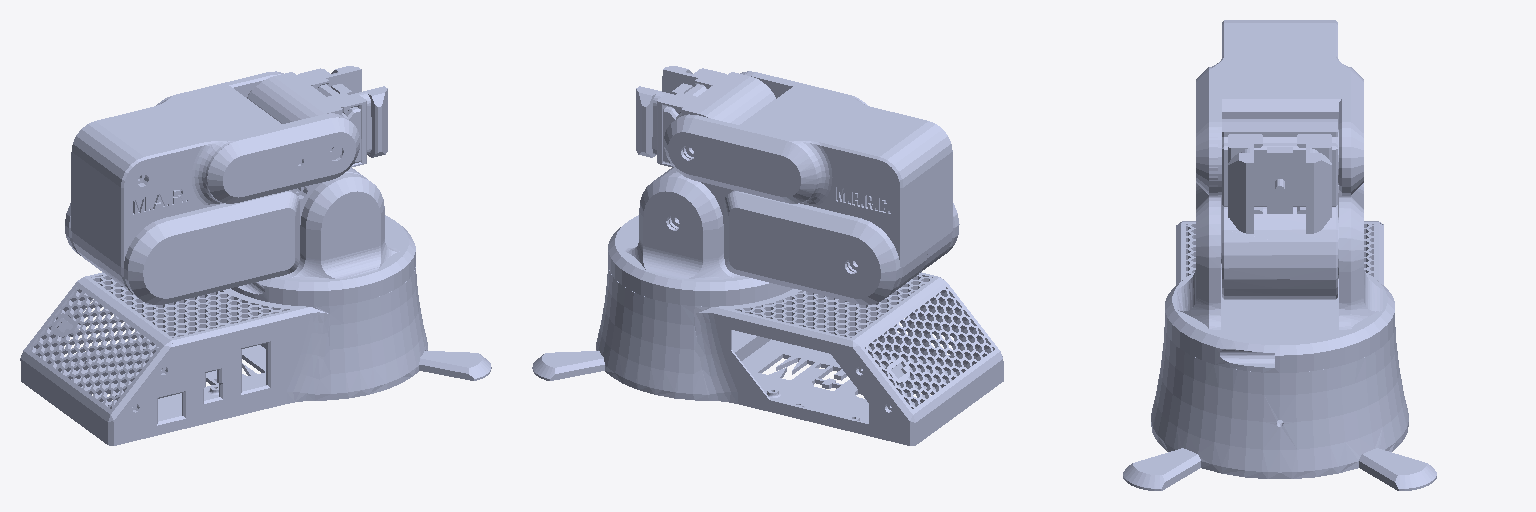
The robot description file, URDF, robot "marc_urdf":
<?xml version="1.0" encoding="utf-8"?>
<!-- This URDF was automatically created by SolidWorks to URDF Exporter! Originally created by [author] ([email redacted]) 
     Commit Version: 1.6.0-4-g7f85cfe  Build Version: 1.6.7995.38578
     For more information, please see http://wiki.ros.org/sw_urdf_exporter -->
<robot
  name="marc_urdf">

    <link name="world"/>

  <joint name="world_joint" type="fixed">
    <parent link="world"/>
    <child link="base_link"/>
    <origin xyz="0 0 0" rpy="0 0 0"/>
  </joint>
  
  <link
    name="base_link">
    <inertial>
      <origin
        xyz="-0.019326 -0.0015141 0.022149"
        rpy="0 0 0" />
      <mass
        value="0.13112" />
      <inertia
        ixx="0.00013465"
        ixy="-7.8684E-06"
        ixz="-7.1281E-09"
        iyy="0.00021462"
        iyz="2.4514E-06"
        izz="0.0003101" />
    </inertial>
    <visual>
      <origin
        xyz="0 0 0"
        rpy="0 0 0" />
      <geometry>
        <mesh
          filename="package://marc_urdf/meshes/base_link.STL" />
      </geometry>
      <material
        name="">
        <color
          rgba="0.79216 0.81961 0.93333 1" />
      </material>
    </visual>
    <collision>
      <origin
        xyz="0 0 0"
        rpy="0 0 0" />
      <geometry>
        <mesh
          filename="package://marc_urdf/meshes/base_link.STL" />
      </geometry>
    </collision>
  </link>
  <link
    name="shoulder_link">
    <inertial>
      <origin
        xyz="-0.00061872 -0.0022185 0.013845"
        rpy="0 0 0" />
      <mass
        value="0.055252" />
      <inertia
        ixx="1.5922E-05"
        ixy="1.9743E-08"
        ixz="-8.4955E-08"
        iyy="3.3192E-05"
        iyz="7.5752E-08"
        izz="3.0288E-05" />
    </inertial>
    <visual>
      <origin
        xyz="0 0 0"
        rpy="0 0 0" />
      <geometry>
        <mesh
          filename="package://marc_urdf/meshes/shoulder_link.STL" />
      </geometry>
      <material
        name="">
        <color
          rgba="0.79216 0.81961 0.93333 1" />
      </material>
    </visual>
    <collision>
      <origin
        xyz="0 0 0"
        rpy="0 0 0" />
      <geometry>
        <mesh
          filename="package://marc_urdf/meshes/shoulder_link.STL" />
      </geometry>
    </collision>
  </link>
  <joint
    name="shoulder_joint"
    type="revolute">
    <origin
      xyz="0 0 0.043"
      rpy="0 0 0" />
    <parent
      link="base_link" />
    <child
      link="shoulder_link" />
    <axis
      xyz="0 0 -1" />
    <limit
      lower="-1.57"
      upper="1.57"
      effort="1.5"
      velocity="1.5" />
  </joint>
  <link
    name="upper_arm_link">
    <inertial>
      <origin
        xyz="-0.044247 -0.034464 -0.00034511"
        rpy="0 0 0" />
      <mass
        value="0.074807" />
      <inertia
        ixx="1.773E-05"
        ixy="-2.1148E-06"
        ixz="-5.6426E-07"
        iyy="8.8688E-05"
        iyz="1.1069E-08"
        izz="8.1791E-05" />
    </inertial>
    <visual>
      <origin
        xyz="0 0 0"
        rpy="0 0 0" />
      <geometry>
        <mesh
          filename="package://marc_urdf/meshes/upper_arm_link.STL" />
      </geometry>
      <material
        name="">
        <color
          rgba="0.79216 0.81961 0.93333 1" />
      </material>
    </visual>
    <collision>
      <origin
        xyz="0 0 0"
        rpy="0 0 0" />
      <geometry>
        <mesh
          filename="package://marc_urdf/meshes/upper_arm_link.STL" />
      </geometry>
    </collision>
  </link>
  <joint
    name="upper_arm_joint"
    type="revolute">
    <origin
      xyz="0 0.029499 0.0325"
      rpy="0 0 0" />
    <parent
      link="shoulder_link" />
    <child
      link="upper_arm_link" />
    <axis
      xyz="0 -1 0" />
    <limit
      lower="-3.14"
      upper="0"
      effort="1.5"
      velocity="1.5" />
  </joint>
  <link
    name="elbow_link">
    <inertial>
      <origin
        xyz="0.025893 -0.031113 0.026699"
        rpy="0 0 0" />
      <mass
        value="0.071354" />
      <inertia
        ixx="3.0153E-05"
        ixy="-1.2234E-06"
        ixz="-1.1982E-05"
        iyy="8.521E-05"
        iyz="-1.1176E-07"
        izz="6.3508E-05" />
    </inertial>
    <visual>
      <origin
        xyz="0 0 0"
        rpy="0 0 0" />
      <geometry>
        <mesh
          filename="package://marc_urdf/meshes/elbow_link.STL" />
      </geometry>
      <material
        name="">
        <color
          rgba="0.79216 0.81961 0.93333 1" />
      </material>
    </visual>
    <collision>
      <origin
        xyz="0 0 0"
        rpy="0 0 0" />
      <geometry>
        <mesh
          filename="package://marc_urdf/meshes/elbow_link.STL" />
      </geometry>
    </collision>
  </link>
  <joint
    name="elbow_joint"
    type="revolute">
    <origin
      xyz="-0.09 0 0"
      rpy="0 0 0" />
    <parent
      link="upper_arm_link" />
    <child
      link="elbow_link" />
    <axis
      xyz="0 -1 0" />
    <limit
      lower="0"
      upper="3.14"
      effort="10.5"
      velocity="1.5" />
  </joint>
  <link
    name="wrist_link">
    <inertial>
      <origin
        xyz="0.0031708 -0.028752 9.5281E-06"
        rpy="0 0 0" />
      <mass
        value="0.027875" />
      <inertia
        ixx="9.2319E-06"
        ixy="-4.769E-07"
        ixz="9.4703E-10"
        iyy="3.9611E-06"
        iyz="-1.3442E-09"
        izz="8.8951E-06" />
    </inertial>
    <visual>
      <origin
        xyz="0 0 0"
        rpy="0 0 0" />
      <geometry>
        <mesh
          filename="package://marc_urdf/meshes/wrist_link.STL" />
      </geometry>
      <material
        name="">
        <color
          rgba="0.79216 0.81961 0.93333 1" />
      </material>
    </visual>
    <collision>
      <origin
        xyz="0 0 0"
        rpy="0 0 0" />
      <geometry>
        <mesh
          filename="package://marc_urdf/meshes/wrist_link.STL" />
      </geometry>
    </collision>
  </link>
  <joint
    name="wrist_joint"
    type="revolute">
    <origin
      xyz="0.082703 0 0.0355"
      rpy="0 0 0" />
    <parent
      link="elbow_link" />
    <child
      link="wrist_link" />
    <axis
      xyz="0 1 0" />
    <limit
      lower="-1.57"
      upper="1.57"
      effort="10.5"
      velocity="1.5" />
  </joint>
  <link
    name="ee_link">
    <inertial>
      <origin
        xyz="-0.0057006 1.9829E-06 -0.00036295"
        rpy="0 0 0" />
      <mass
        value="0.010567" />
      <inertia
        ixx="9.4856E-07"
        ixy="2.218E-21"
        ixz="1.3268E-09"
        iyy="1.2637E-06"
        iyz="8.2325E-21"
        izz="4.7796E-07" />
    </inertial>
    <visual>
      <origin
        xyz="0 0 0"
        rpy="0 0 0" />
      <geometry>
        <mesh
          filename="package://marc_urdf/meshes/ee_link.STL" />
      </geometry>
      <material
        name="">
        <color
          rgba="0.79216 0.81961 0.93333 1" />
      </material>
    </visual>
    <collision>
      <origin
        xyz="0 0 0"
        rpy="0 0 0" />
      <geometry>
        <mesh
          filename="package://marc_urdf/meshes/ee_link.STL" />
      </geometry>
    </collision>
  </link>
  <joint
    name="ee_joint"
    type="fixed">
    <origin
      xyz="0.031 -0.0295 8.7404E-05"
      rpy="0 0 0" />
    <parent
      link="wrist_link" />
    <child
      link="ee_link" />
    <axis
      xyz="0 0 0" />
    <limit
      lower="0"
      upper="0"
      effort="0"
      velocity="0" />
  </joint>

  <link name="ee_rotation_x"/>
  <joint name="ee_rotation_joint_x" type="revolute">
    <origin xyz="0 0 0" rpy="0 0 0"/>
    <parent link="ee_link"/>
    <child link="ee_rotation_x"/>
    <axis xyz="1 0 0"/>
    <limit lower="-3.1416" upper="3.1416" effort="1.5" velocity="1.5"/>
  </joint>

  <link name="ee_rotation_y"/>
  <joint name="ee_rotation_joint_y" type="revolute">
    <origin xyz="0 0 0" rpy="0 0 0"/>
    <parent link="ee_rotation_x"/>
    <child link="ee_rotation_y"/>
    <axis xyz="0 1 0"/>
    <limit lower="-3.1416" upper="3.1416" effort="1.5" velocity="1.5"/>
  </joint>

  <link name="ee_rotation_z"/>
  <joint name="ee_rotation_joint_z" type="revolute">
    <origin xyz="0 0 0" rpy="0 0 0"/>
    <parent link="ee_rotation_y"/>
    <child link="ee_rotation_z"/>
    <axis xyz="0 0 1"/>
    <limit lower="-3.1416" upper="3.1416" effort="1.5" velocity="1.5"/>
  </joint>

</robot>

--- Facts derived from the render (not from the file) ---
3 views of the same robot in one strip: view 1: azimuth 30°, elevation 25°; view 2: azimuth 150°, elevation 25°; view 3: azimuth 270°, elevation 25° (orthographic).
Robot: marc_urdf — 10 links, 9 joints (7 revolute, 2 fixed); root link world; default pose: every joint at zero.
Links seen in each view (by area): view 1: base_link, elbow_link, upper_arm_link, shoulder_link, wrist_link, ee_link; view 2: base_link, elbow_link, upper_arm_link, shoulder_link, wrist_link, ee_link; view 3: base_link, shoulder_link, elbow_link, upper_arm_link, ee_link, wrist_link.
Link boxes in pixels (x1,y1,x2,y2): base_link: (20,267,491,445); elbow_link: (71,71,359,293); upper_arm_link: (65,168,365,304); shoulder_link: (231,173,415,306); wrist_link: (247,72,361,163); ee_link: (298,66,387,167); base_link: (532,267,1003,445); elbow_link: (664,71,952,292); upper_arm_link: (658,168,959,304); shoulder_link: (608,173,793,306); wrist_link: (663,72,775,163); ee_link: (636,66,726,167); base_link: (1123,221,1436,490); shoulder_link: (1165,197,1394,372); elbow_link: (1196,20,1363,195); upper_arm_link: (1196,183,1363,299); ee_link: (1228,134,1331,233); wrist_link: (1222,119,1338,206).
Size in the robot's own frame: 0.187 by 0.1219 by 0.126 metres.
Meshes: 6 distinct files referenced, 6 mesh visuals loaded (6 binary STL).
